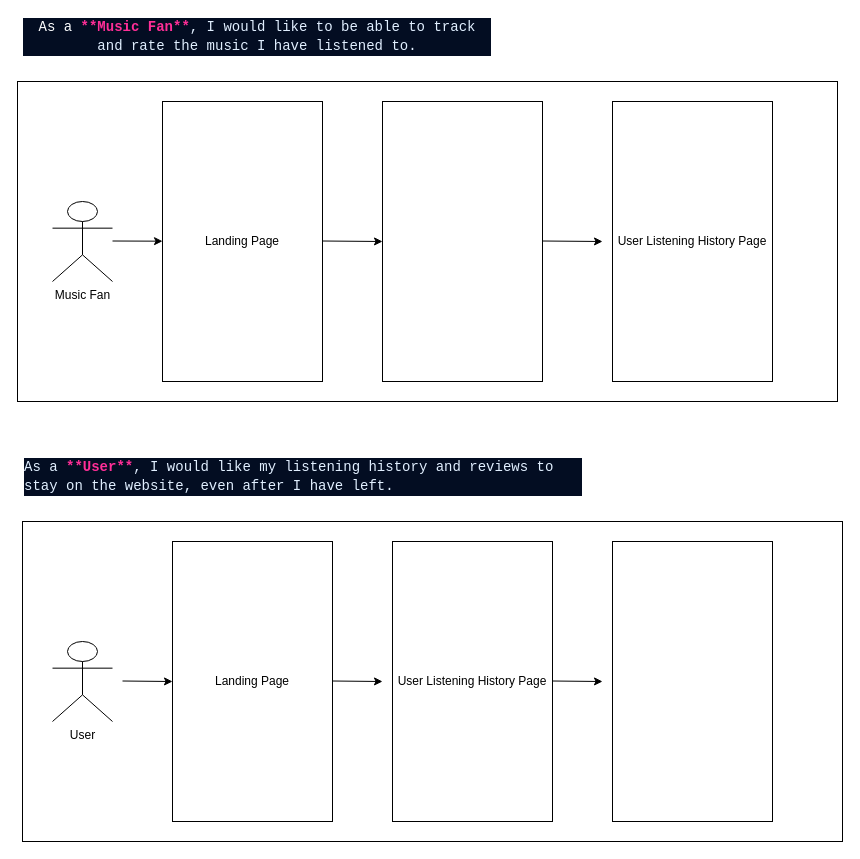
This 860x859 diagram has some shape labels left out. Here are the shapes that lost their labels. From the top down, the box of each, then its label:
(382, 100, 542, 382): Form to Add Album Information and Ratings
(612, 540, 772, 822): Album Information Page
